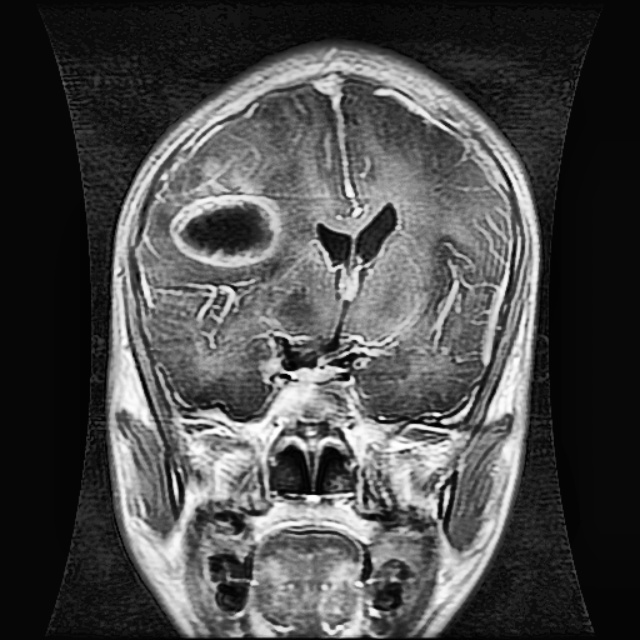Meningioma: (168, 195, 289, 268)
